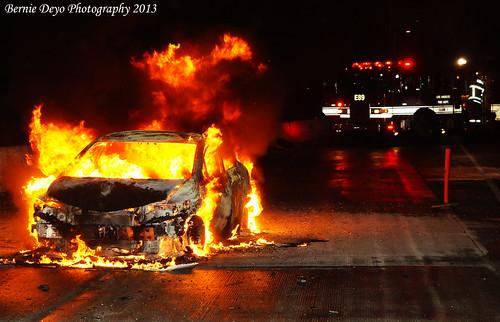fire: (26, 104, 198, 180), (129, 32, 255, 78), (56, 235, 177, 273), (183, 182, 227, 257), (20, 181, 55, 266), (244, 159, 270, 234), (200, 126, 233, 181), (227, 238, 272, 252), (229, 224, 241, 237)
smoke: (127, 78, 278, 125), (224, 127, 284, 157)
